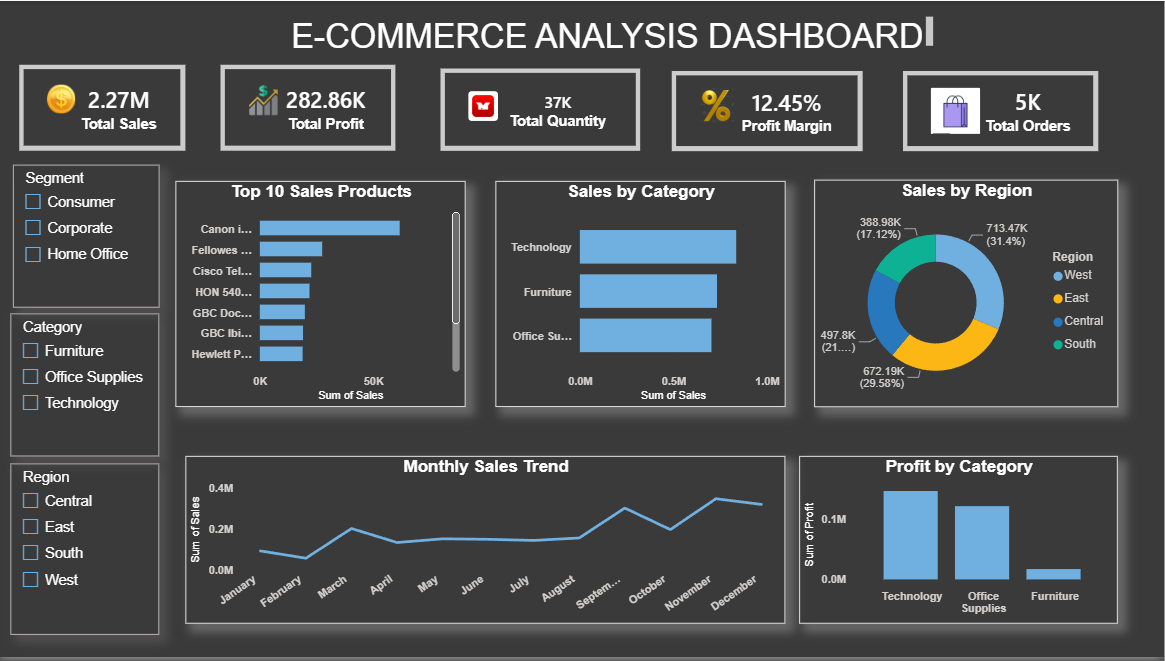

Layout of this report page (visuals, bound fields, positions):
{"tool":"powerbi","page":{"name":"Page 1","canvas":[1280,720],"ordinal":0},"visuals":[{"type":"cardVisual","fields":{"Data":["superstore_clean.Total Sales"]},"box":[85.1,78.2,182.5,94.7],"z":0},{"type":"cardVisual","fields":{"Data":["superstore_clean.Total Profit"]},"box":[332.1,83.7,192.1,94.7],"z":1000},{"type":"cardVisual","fields":{"Data":["superstore_clean.Total Quantity"]},"box":[568.1,86.4,200.3,86.4],"z":2000},{"type":"cardVisual","fields":{"Data":["superstore_clean.Profit Margin"]},"box":[832.9,90.6,199,87.8],"z":3000},{"type":"cardVisual","fields":{"Data":["superstore_clean.Total Orders"]},"box":[1055.2,83.7,214.1,89.2],"z":4000},{"type":"clusteredBarChart","title":"Sales by Category","fields":{"Category":["superstore_clean.Category"],"Y":["Sum(superstore_clean.Sales)"]},"box":[590.1,215.4,319,249],"z":5000},{"type":"clusteredBarChart","title":"Profit by Category","fields":{"Category":["superstore_clean.Category"],"Y":["Sum(superstore_clean.Profit)"]},"box":[933.1,450.1,319.7,249.7],"z":6000},{"type":"donutChart","title":"Sales by Region","fields":{"Category":["superstore_clean.Region"],"Y":["Sum(superstore_clean.Sales)"]},"box":[933.1,193.5,319.7,249.7],"z":7000},{"type":"lineChart","title":"Monthly Sales Trend","fields":{"Y":["Sum(superstore_clean.Sales)"],"Category":["superstore_clean.Order_Date.Variation.Date Hierarchy.Month"]},"box":[205.8,499.5,679.2,196.2],"z":8000},{"type":"barChart","title":"Top 10 Sales Products","fields":{"Category":["superstore_clean.Product Name"],"Y":["Sum(superstore_clean.Sales)"]},"box":[218.2,223.7,319,249],"z":9000},{"type":"slicer","fields":{"Values":["superstore_clean.Region"]},"box":[13.7,507.7,163.3,188],"z":10000},{"type":"slicer","fields":{"Values":["superstore_clean.Category"]},"box":[13.7,343.1,141.3,137.2],"z":11000},{"type":"slicer","fields":{"Values":["superstore_clean.Segment"]},"box":[16.5,192.1,138.6,134.5],"z":12000},{"type":"textbox","box":[317,12.3,723.2,87.8],"z":12001}]}

Visuals, with their boxes in screenshot pixels (x1, y1, x2, y2), scaled from the page's 1280x720 canvas onto the 1165x661 screenshot:
cardVisual - superstore_clean.Total Sales: bbox(77, 72, 244, 159)
cardVisual - superstore_clean.Total Profit: bbox(302, 77, 477, 164)
cardVisual - superstore_clean.Total Quantity: bbox(517, 79, 699, 159)
cardVisual - superstore_clean.Profit Margin: bbox(758, 83, 939, 164)
cardVisual - superstore_clean.Total Orders: bbox(960, 77, 1155, 159)
"Sales by Category" clusteredBarChart: bbox(537, 198, 827, 426)
"Profit by Category" clusteredBarChart: bbox(849, 413, 1140, 642)
"Sales by Region" donutChart: bbox(849, 178, 1140, 407)
"Monthly Sales Trend" lineChart: bbox(187, 459, 805, 639)
"Top 10 Sales Products" barChart: bbox(199, 205, 489, 434)
slicer - superstore_clean.Region: bbox(12, 466, 161, 639)
slicer - superstore_clean.Category: bbox(12, 315, 141, 441)
slicer - superstore_clean.Segment: bbox(15, 176, 141, 300)
textbox: bbox(289, 11, 947, 92)
